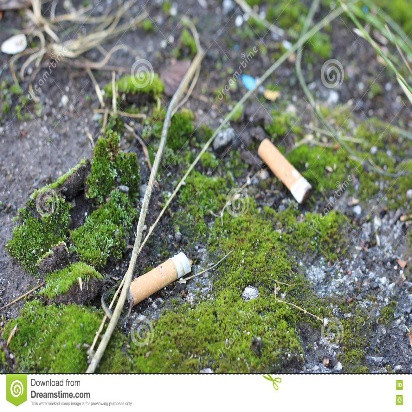cigarette: (255, 131, 318, 210), (126, 253, 189, 300)
